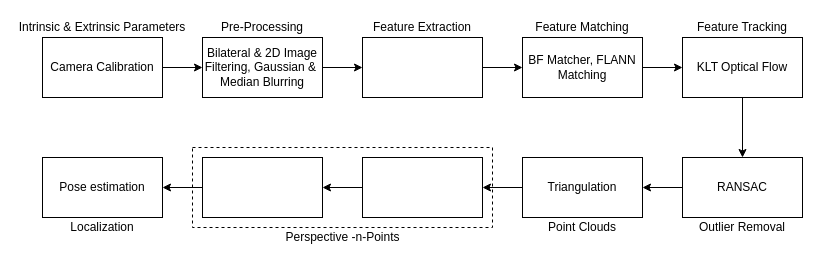
This 820x264 diagram has some shape labels left out. The shapes that lost their labels are listed below. From the top down, each one's box as (x1, y1, x2, y2) in pixels, then its label:
(362, 36, 482, 98): ORB, FAST, SIFT, SURF, Shi-Tomasi
(202, 156, 322, 218): Levenberg-Marquardt Algorithm
(362, 156, 482, 218): Direct Linear Transformation
